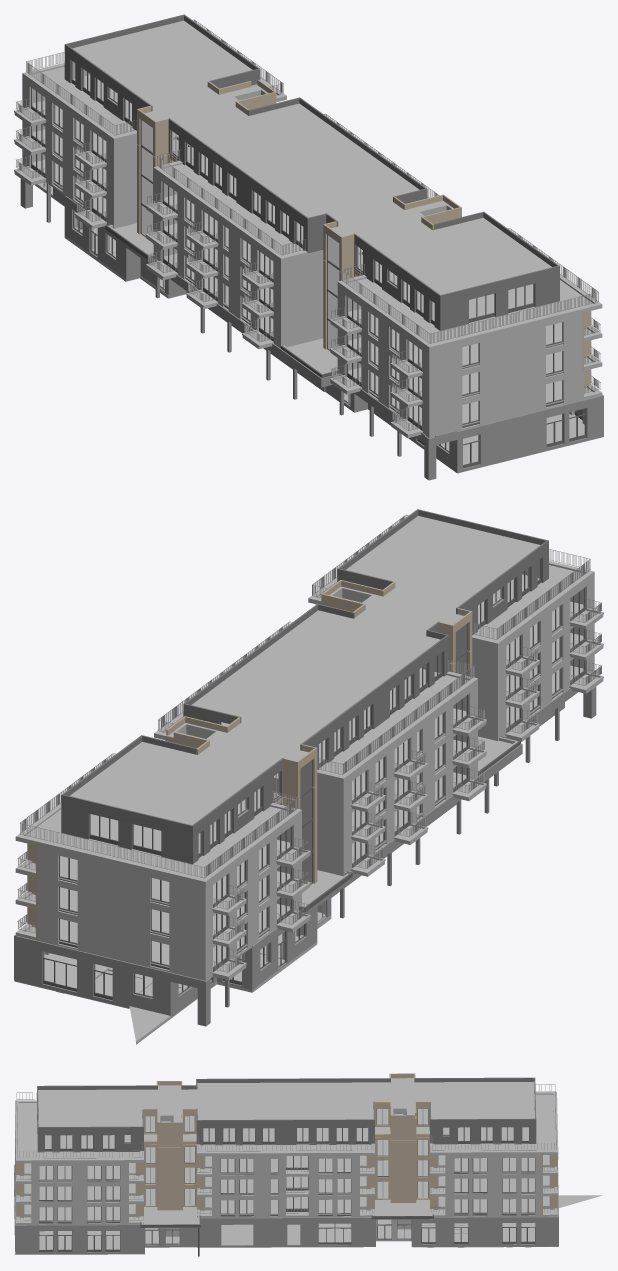
Rendered from alexa.glb.
3 renders of one model, top to bottom at view 1: azimuth 30°, elevation 25°; view 2: azimuth 150°, elevation 25°; view 3: azimuth 270°, elevation 25°, orthographic. The views are drawn at different scales.
Parts seen in each view (by area): view 1: world; view 2: world; view 3: world.
Part boxes in pixels (box(x1,y1,x2,y2)): world: box(14, 14, 603, 480); world: box(14, 509, 603, 1044); world: box(14, 1073, 602, 1256).
Bounding box in the file's own units: 23.79 × 17.3 × 77.7.
